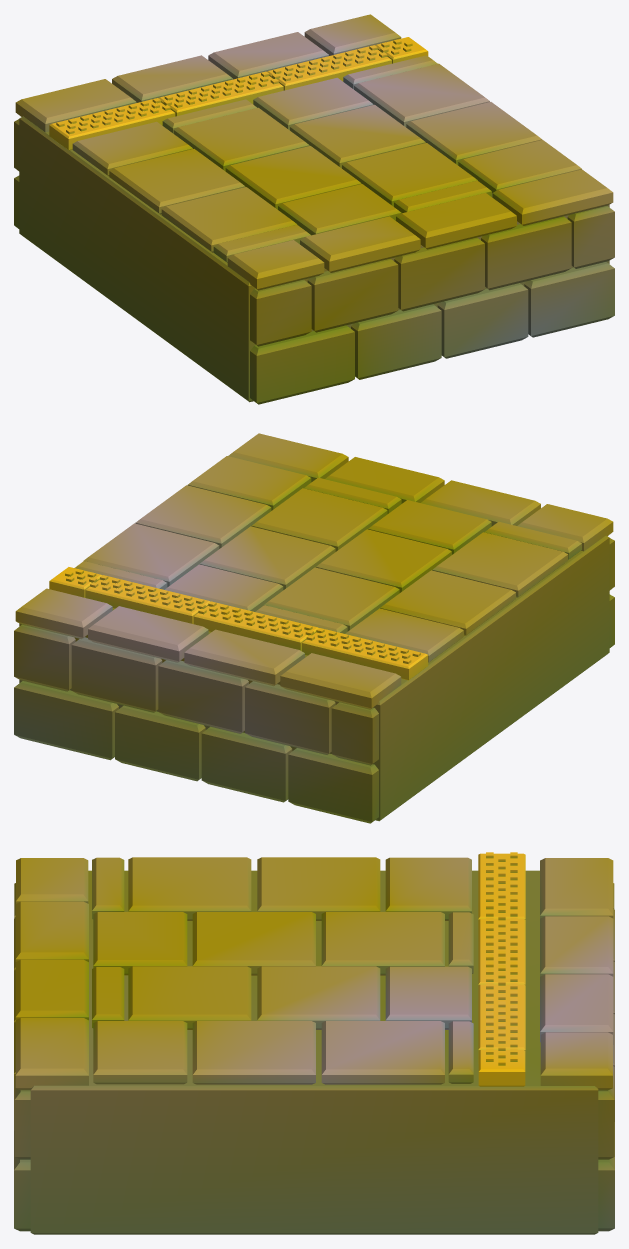
Rendered from Platform_Straight_3m.fbx.
3 renders of one model, top to bottom at view 1: azimuth 30°, elevation 25°; view 2: azimuth 150°, elevation 25°; view 3: azimuth 270°, elevation 25°, orthographic. The views are drawn at different scales.
Parts seen in each view (by area): view 1: Platform_Straight_3m; view 2: Platform_Straight_3m; view 3: Platform_Straight_3m.
Boxes of the visible parts, bbox=[...] form: Platform_Straight_3m: bbox=[14, 14, 614, 404]; Platform_Straight_3m: bbox=[14, 433, 614, 823]; Platform_Straight_3m: bbox=[14, 852, 614, 1234].
Size of the model in its own units: 3 by 1.08 by 3.49.
